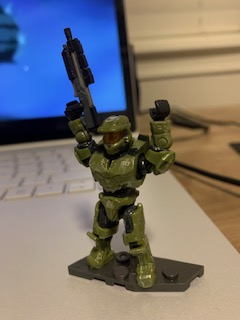chief: (63, 97, 177, 289)
rifle: (59, 26, 101, 134)
spartan: (61, 95, 175, 287)
up: (63, 99, 176, 196)
